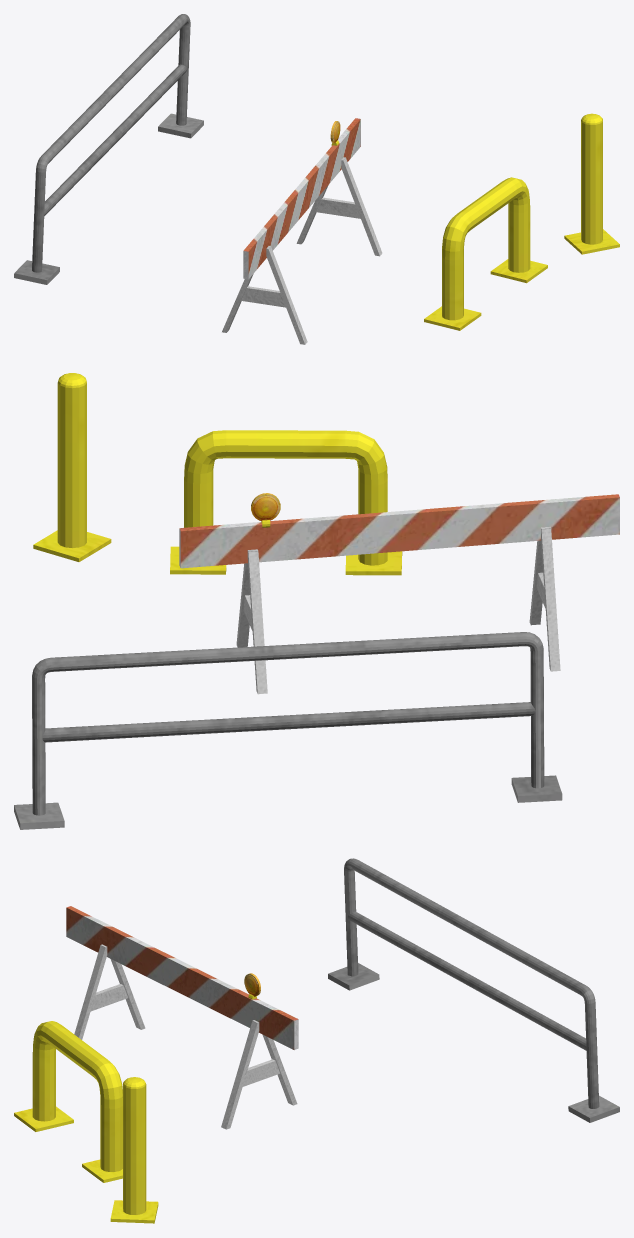
File: barric_01.glb
The picture shows the model from 3 angles, top to bottom: view 1: azimuth 30°, elevation 25°; view 2: azimuth 150°, elevation 25°; view 3: azimuth 270°, elevation 25°; orthographic projection. The views are drawn at different scales.
Visible parts, largest first — view 1: geometry_0; view 2: geometry_0; view 3: geometry_0.
Boxes of the visible parts, left/top/right/bottom form: geometry_0: left=14, top=14, right=619, bottom=344; geometry_0: left=14, top=373, right=619, bottom=829; geometry_0: left=14, top=858, right=619, bottom=1223.
Bounding box in the file's own units: 4.19 × 1.06 × 4.24.
1 material, 1 textured.
